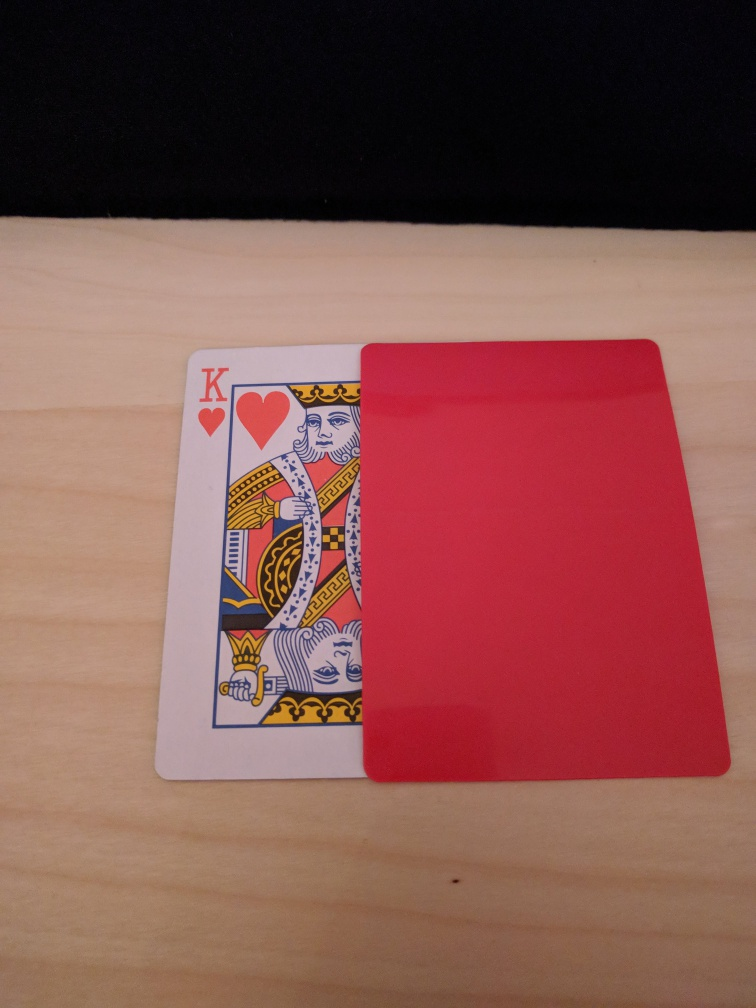king: (155, 344, 367, 782)
